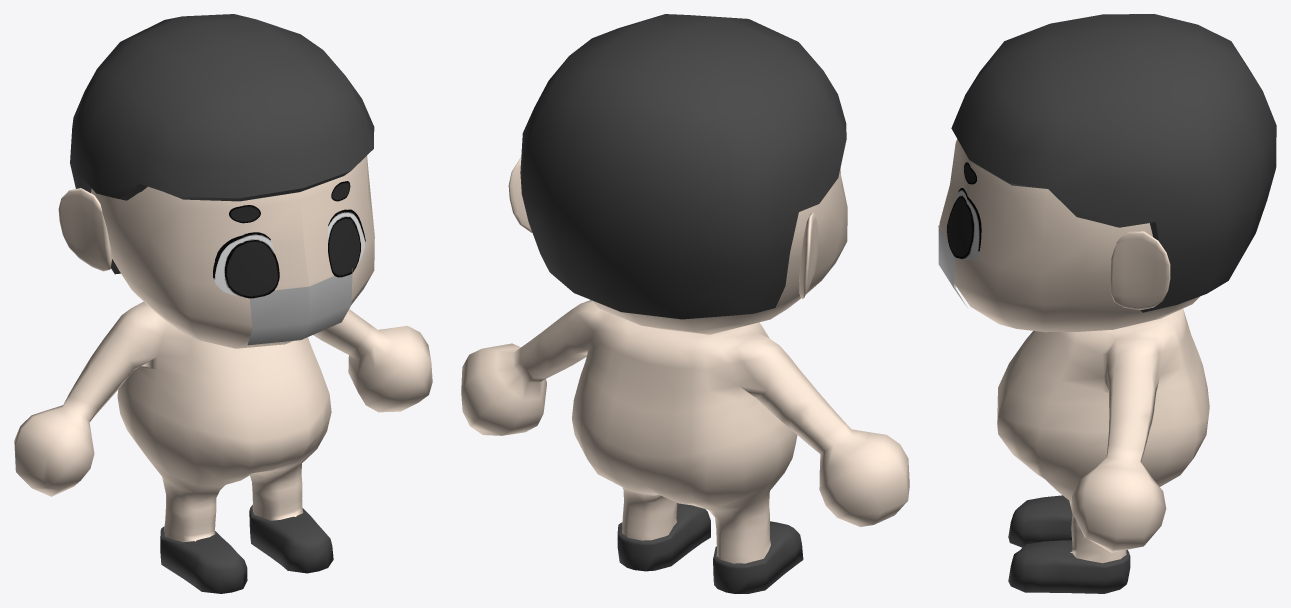
Rendered from Headphones User.fbx.
The picture shows the model from 3 angles, left to right: view 1: azimuth 30°, elevation 25°; view 2: azimuth 150°, elevation 25°; view 3: azimuth 270°, elevation 25°; orthographic projection. The views are drawn at different scales.
Visible parts, largest first — view 1: polySurface4, Headphones, eyes, mouth, pCube59, pCube60; view 2: Headphones, polySurface4, pCube60, pCube59; view 3: polySurface4, Headphones, pCube60, pCube59, eyes, mouth.
Boxes of the visible parts, left/top/right/bottom form: polySurface4: left=14, top=156, right=432, bottom=589; Headphones: left=70, top=14, right=374, bottom=274; eyes: left=213, top=181, right=365, bottom=298; mouth: left=247, top=268, right=352, bottom=345; pCube59: left=160, top=526, right=247, bottom=593; pCube60: left=249, top=505, right=333, bottom=573; Headphones: left=520, top=14, right=846, bottom=319; polySurface4: left=461, top=158, right=909, bottom=563; pCube60: left=617, top=503, right=710, bottom=571; pCube59: left=713, top=521, right=803, bottom=593; polySurface4: left=939, top=139, right=1209, bottom=563; Headphones: left=951, top=14, right=1276, bottom=312; pCube60: left=1008, top=540, right=1130, bottom=593; pCube59: left=1008, top=495, right=1072, bottom=547; eyes: left=947, top=162, right=981, bottom=259; mouth: left=938, top=224, right=967, bottom=307.
Bounding box in the file's own units: 5.07 × 5.92 × 3.43.
